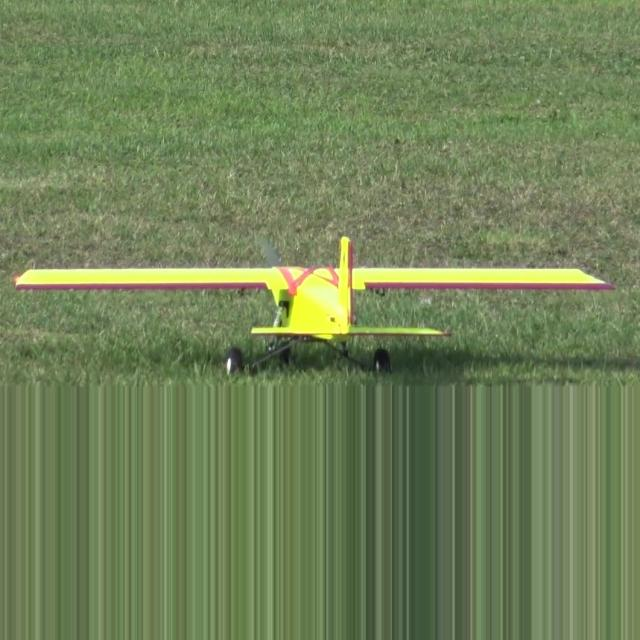iha: (18, 297, 622, 343)
